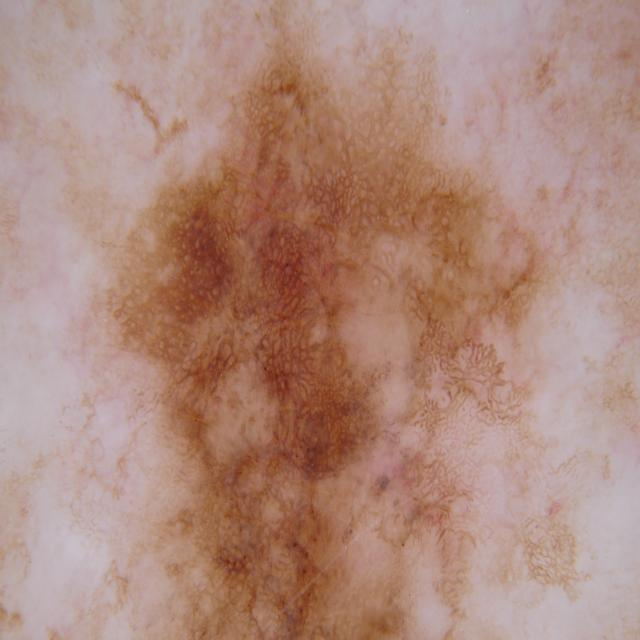Melanoma: (95, 40, 574, 640)
